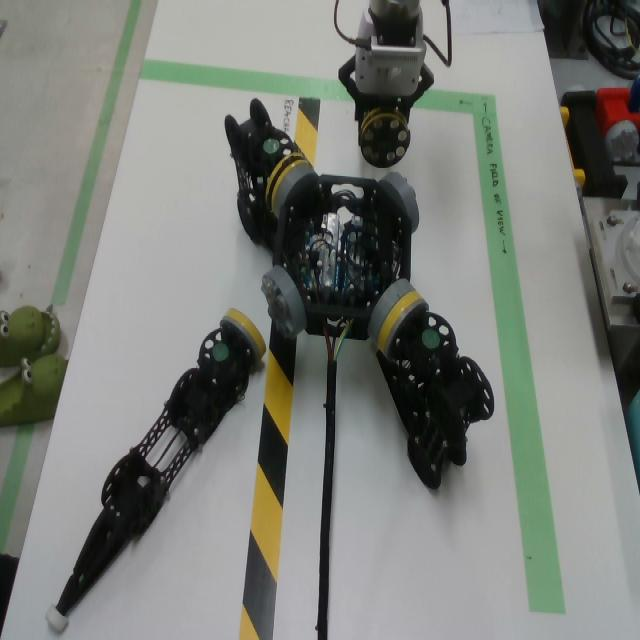body: (274, 175, 412, 341)
body_connector: (261, 267, 307, 335), (367, 279, 414, 339), (272, 164, 318, 219), (378, 172, 419, 233)
gripper: (338, 56, 435, 124)
leg: (45, 307, 267, 632), (376, 291, 495, 491), (225, 99, 309, 252), (359, 95, 411, 169)
leg_connector: (358, 107, 411, 168), (378, 291, 428, 355), (265, 153, 310, 213), (221, 308, 266, 363)
leg_marker: (422, 329, 440, 351), (213, 343, 228, 361), (264, 139, 280, 152)
